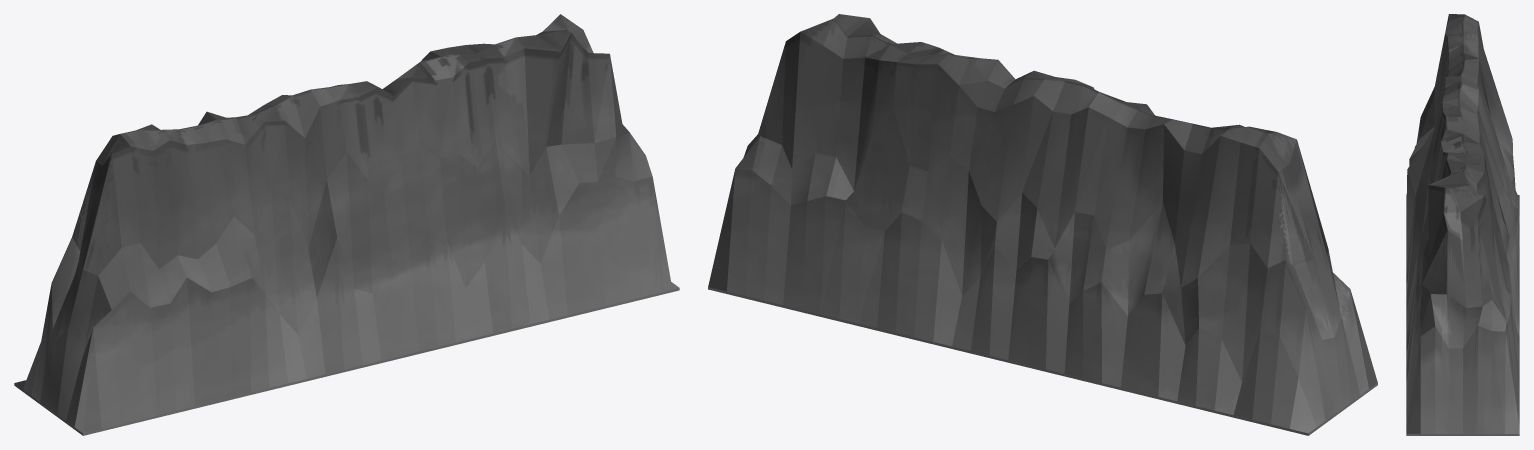
The model's file is BossStageWall.gltf.
The picture shows the model from 3 angles, left to right: view 1: azimuth 30°, elevation 25°; view 2: azimuth 150°, elevation 25°; view 3: azimuth 270°, elevation 25°; orthographic projection. The views are drawn at different scales.
Visible parts, largest first — view 1: BossStageWall1; view 2: BossStageWall1; view 3: BossStageWall1.
Part boxes in pixels (x1,y1,x2,y2): BossStageWall1: (14,14,679,435); BossStageWall1: (708,14,1377,435); BossStageWall1: (1406,14,1519,435).
Bounding box in the file's own units: 240 × 100 × 48.
Materials: 1 (1 with a texture image).
